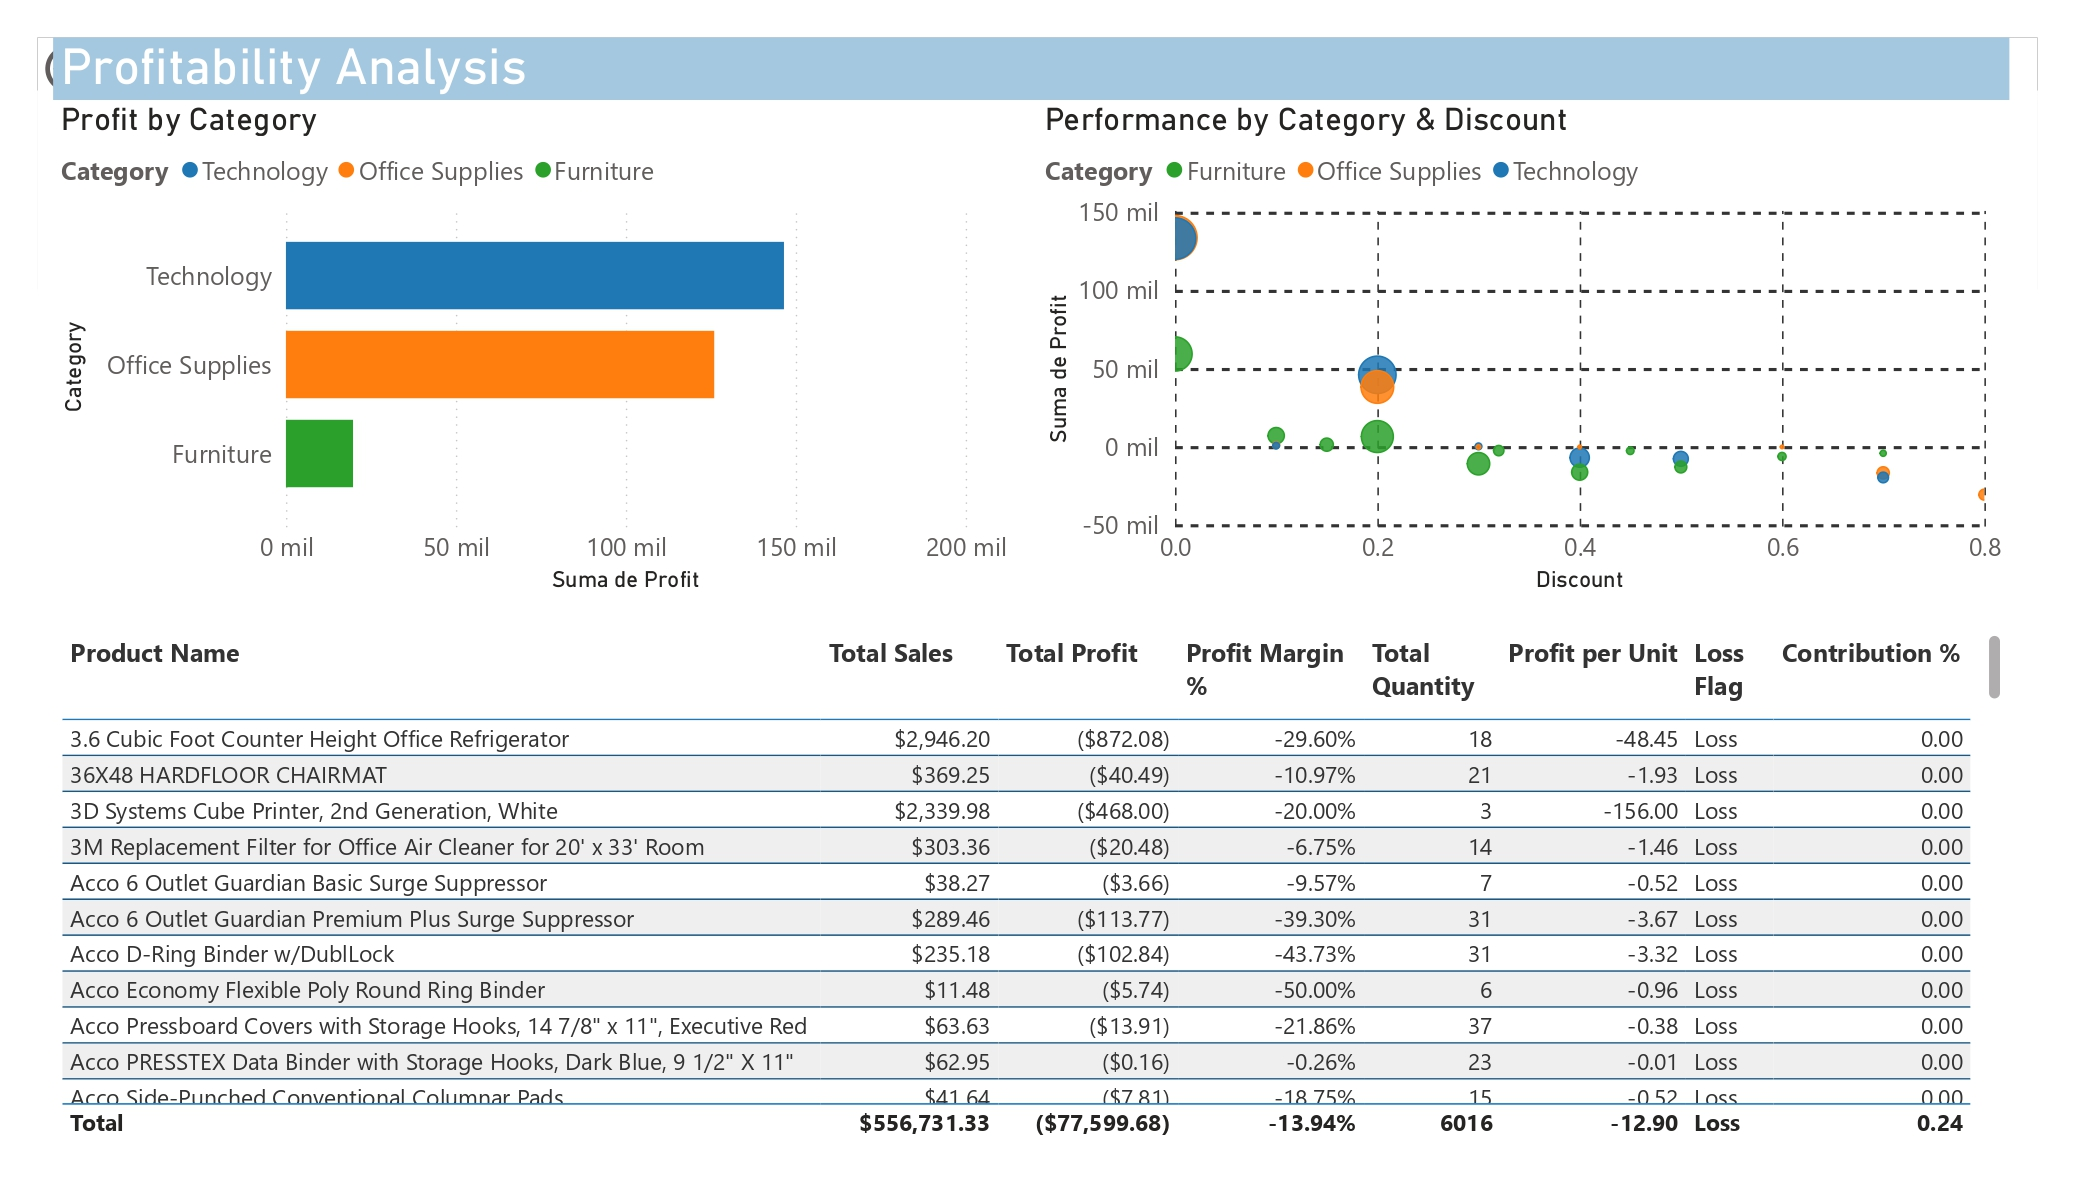

The dashboard page shown, as its layout file describes it:
{"tool":"powerbi","page":{"name":"PROFITABILITY ANALYSIS","canvas":[1280,720],"ordinal":2},"visuals":[{"type":"barChart","title":"Profit by Category ","fields":{"Category":["samplesuperstore.Category"],"Series":["samplesuperstore.Category"],"Y":["Sum(samplesuperstore.Profit)"]},"box":[10,40,615,320],"z":0},{"type":"scatterChart","title":"Performance by Category & Discount","fields":{"Series":["samplesuperstore.Category"],"Size":["samplesuperstore.Total Sales"],"X":["samplesuperstore.Discount"],"Y":["Sum(samplesuperstore.Profit)"]},"box":[640,40,621.7,320],"z":1000},{"type":"actionButton","box":[0,0,100,40],"z":2000},{"type":"tableEx","fields":{"Values":["samplesuperstore.Product Name","samplesuperstore.Total Sales","samplesuperstore.Total Profit","samplesuperstore.Profit Margin %","samplesuperstore.Total Quantity","samplesuperstore.Profit per Unit","samplesuperstore.Loss Flag","samplesuperstore.Contribution %"]},"box":[10,376.7,1251.7,333.3],"z":3000},{"type":"textbox","title":"Profitability Analysis","box":[10,0,1251.7,40],"z":3001}]}

Visuals, with their boxes on the page's 1280x720 design canvas (x1, y1, x2, y2). These are canvas units, not pixel positions in the 2075x1200 screenshot, which may show the page scaled, cropped or inside an application window:
"Profit by Category " barChart: box(10, 40, 625, 360)
"Performance by Category & Discount" scatterChart: box(640, 40, 1262, 360)
actionButton: box(0, 0, 100, 40)
tableEx - samplesuperstore.Product Name x samplesuperstore.Total Sales: box(10, 377, 1262, 710)
"Profitability Analysis" textbox: box(10, 0, 1262, 40)
